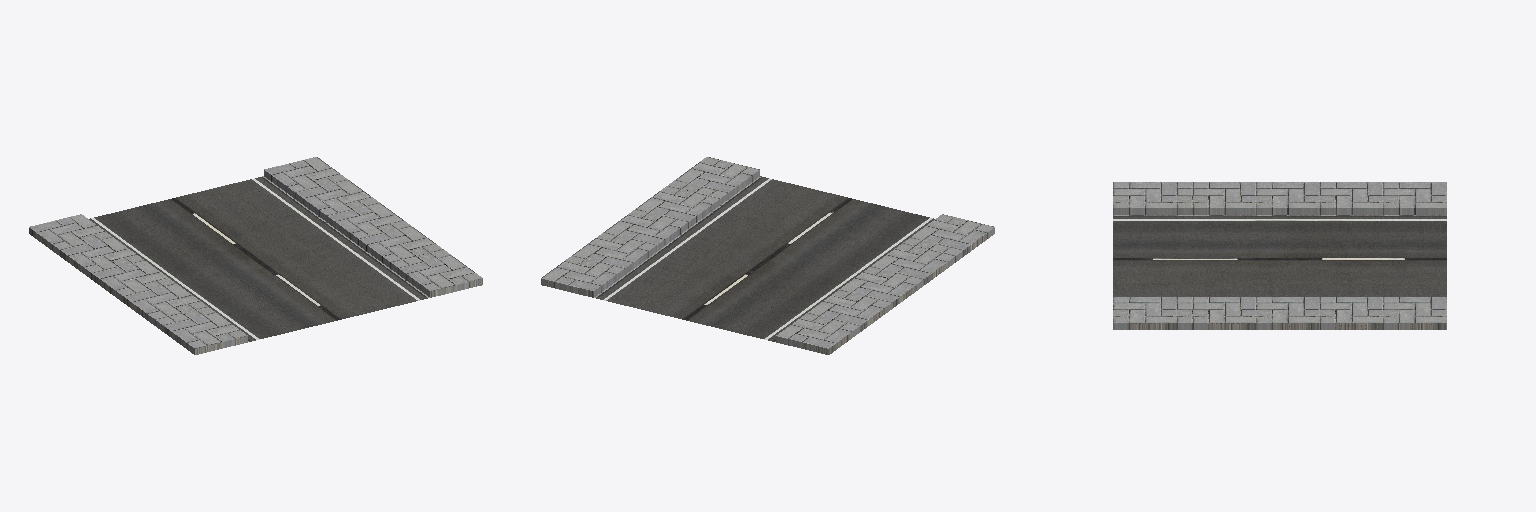
The picture shows the model from 3 angles: view 1: azimuth 30°, elevation 25°; view 2: azimuth 150°, elevation 25°; view 3: azimuth 270°, elevation 25°; orthographic projection.
Visible parts, largest first — view 1: Plane01; view 2: Plane01; view 3: Plane01.
Part boxes in pixels (bbox=[...]): Plane01: bbox=[29, 157, 482, 354]; Plane01: bbox=[541, 157, 994, 354]; Plane01: bbox=[1113, 182, 1446, 329].
Size of the model in its own units: 1024 by 22.13 by 1024.
Materials: 1 (1 with a texture image).